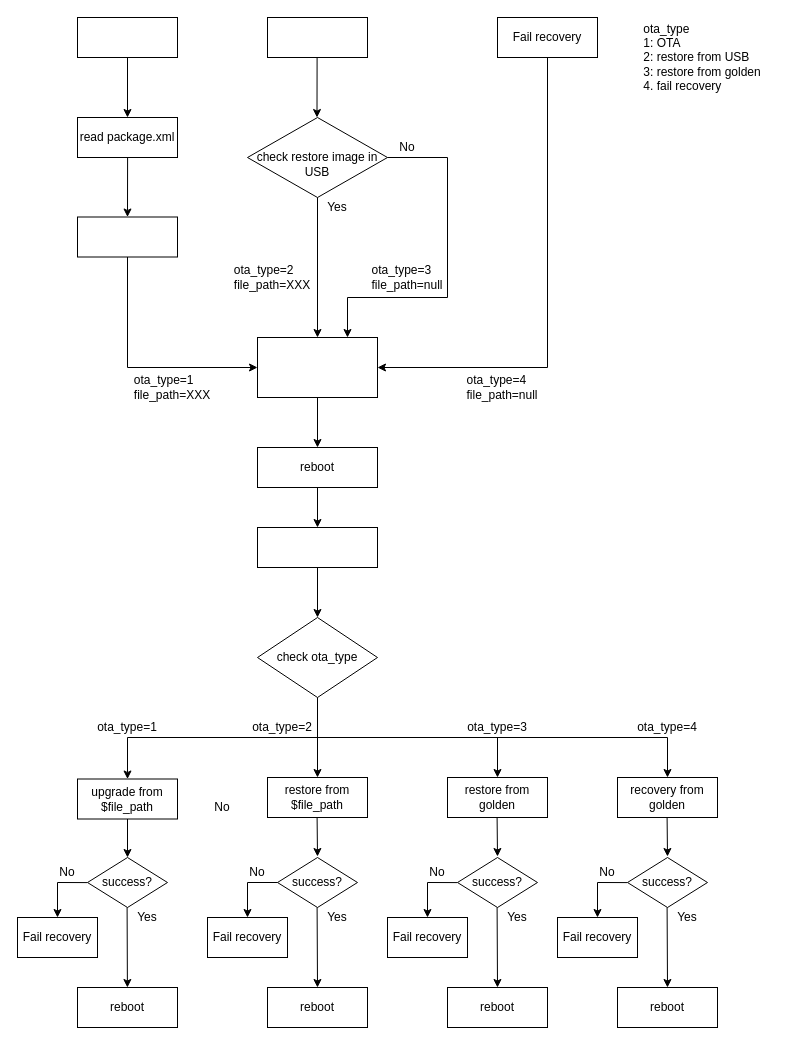
Image size: 795x1045. Some labels were removed from this diagram. Here are the shapes that lost their labels. From the top down, the centre of each, then its label:
At point (127, 37): "System update (OTA)".
At point (317, 37): "Restore default".
At point (127, 236): "download FW.tar".
At point (317, 367): "set recovery.txt & ota_parameter.txt".
At point (317, 547): "enter rescue".
